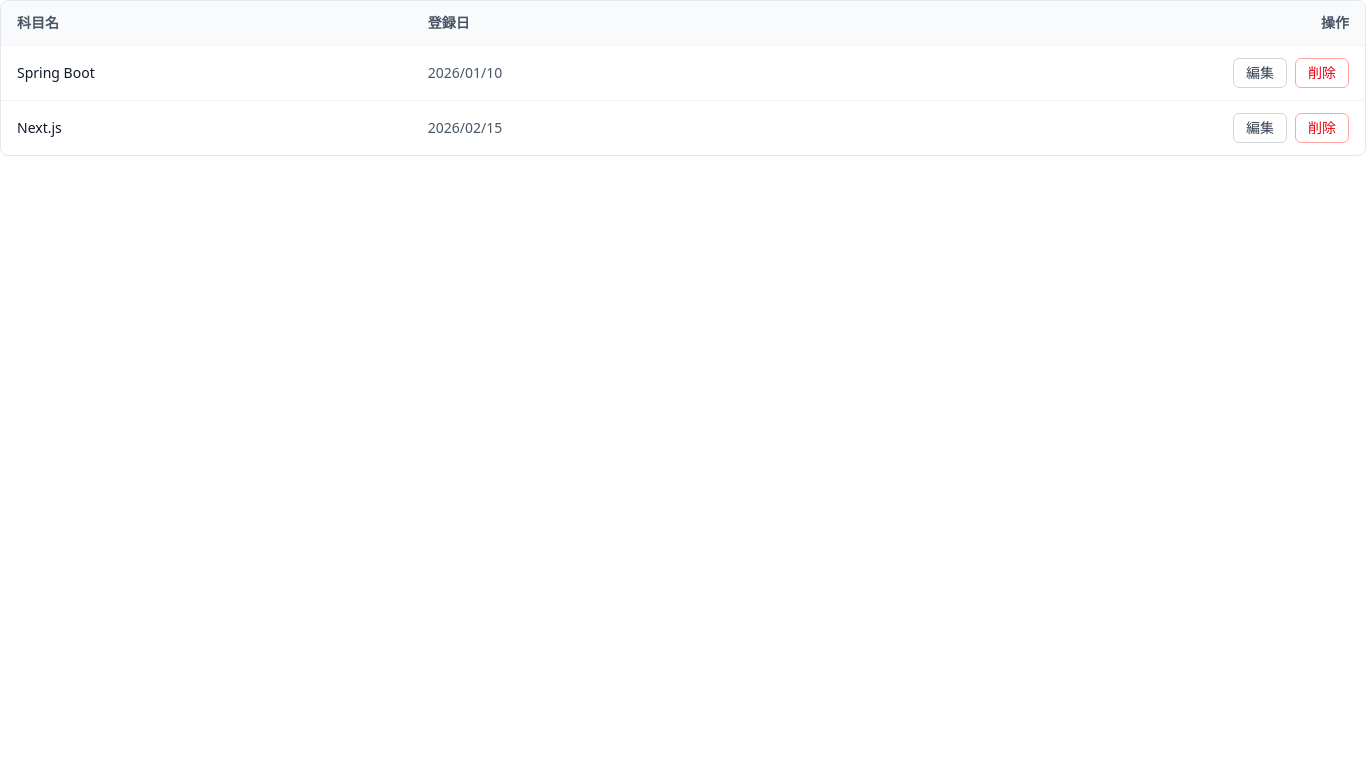
Test case: SubjectList › 削除ボタンで確認ダイアログが表示される
Click the button "削除" in the row of "Spring Boot" at (1322, 73), box [1295,58,1349,88]
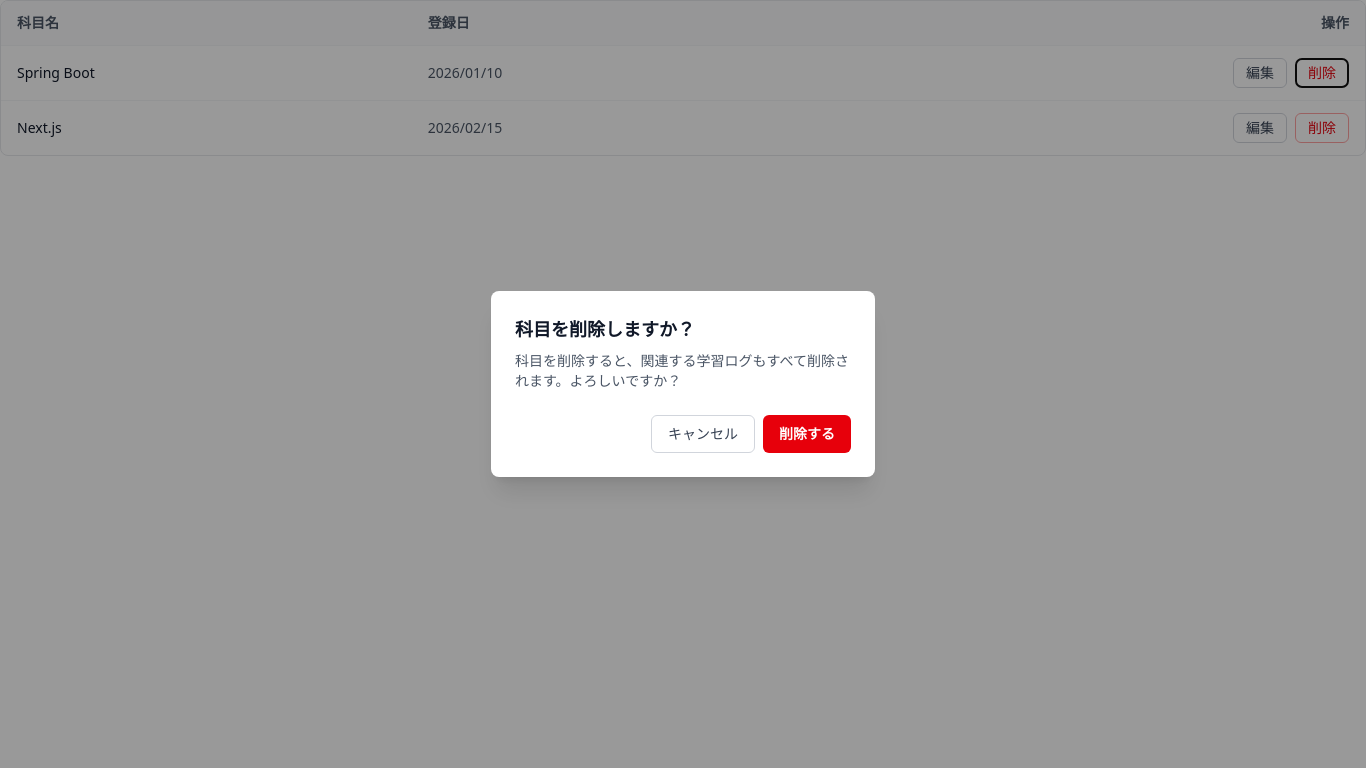
Now the dialog is shown, box [491,291,875,477]
Now the text "科目を削除すると、関連する学習ログもすべて削除されます。よろしいですか？" is shown, box [515,351,851,391]
